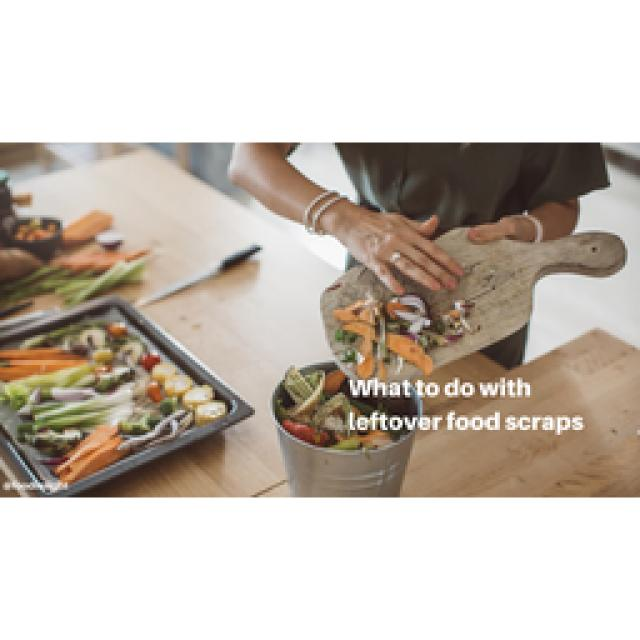food_waste: (0, 302, 232, 490), (272, 295, 468, 448), (18, 218, 52, 240)
